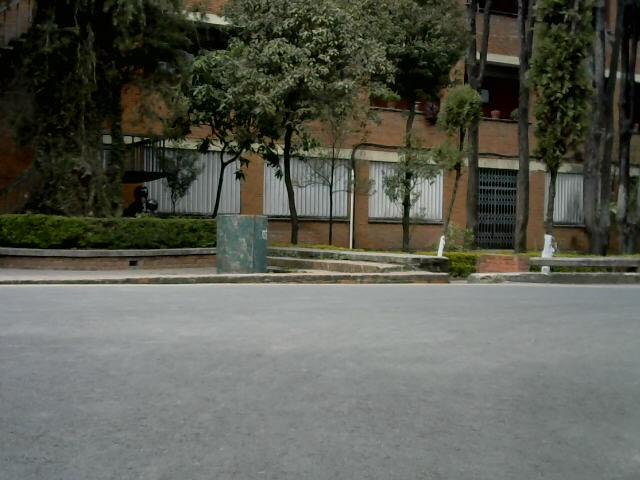Dustbin: (214, 207, 289, 280)
Road: (4, 281, 640, 480)
Tree: (374, 0, 525, 279), (203, 0, 368, 227), (24, 0, 186, 229), (529, 0, 611, 262)
